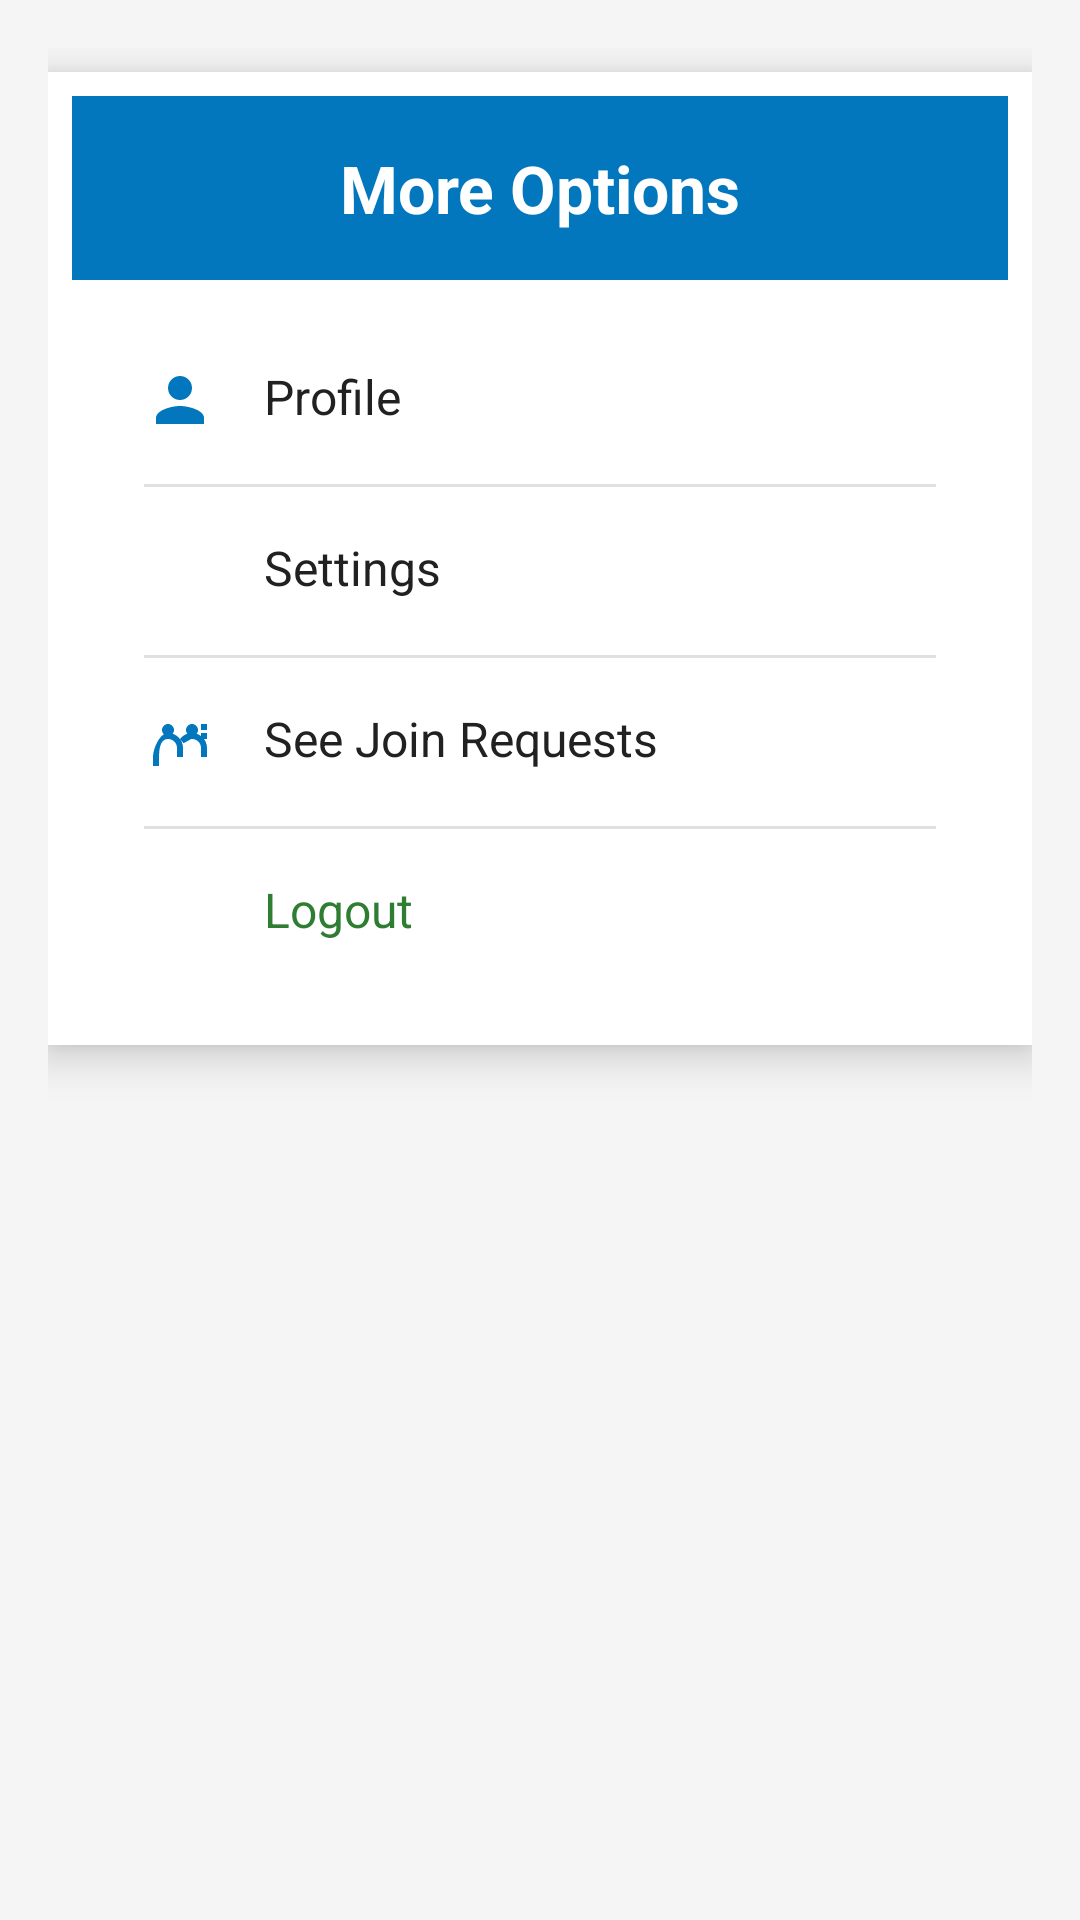

Point at icon controls on the screen. Image size 1080×1920, points as (x,y).
group add: (180,745)
person: (180,400)
